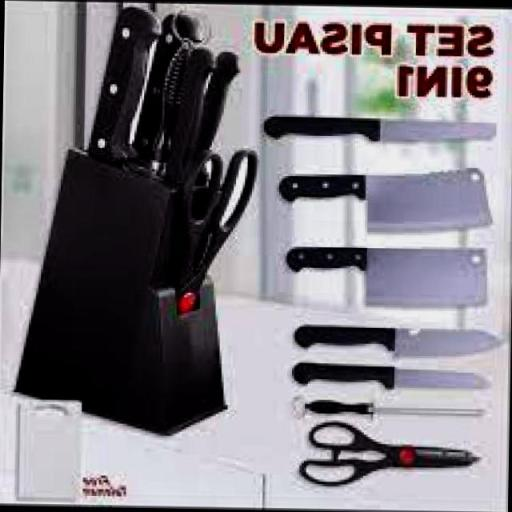knife: (272, 111, 494, 425)
